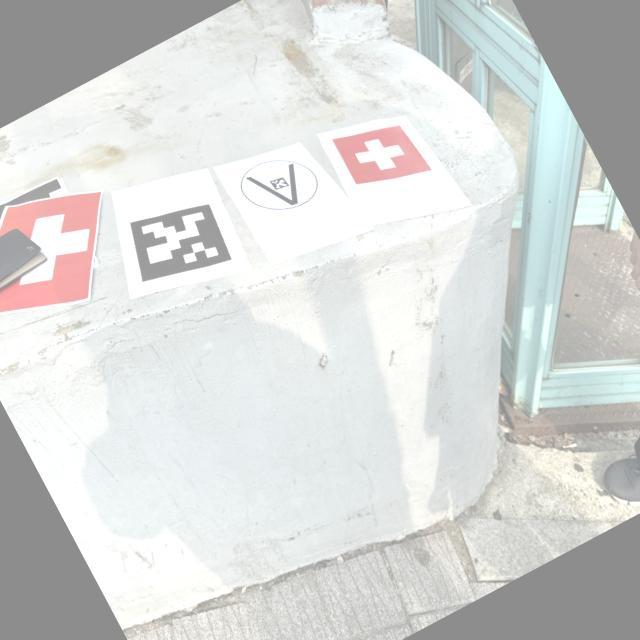ArUro mark: (124, 197, 238, 285)
rescue point: (327, 119, 434, 189)
vertiport: (228, 132, 334, 234)
